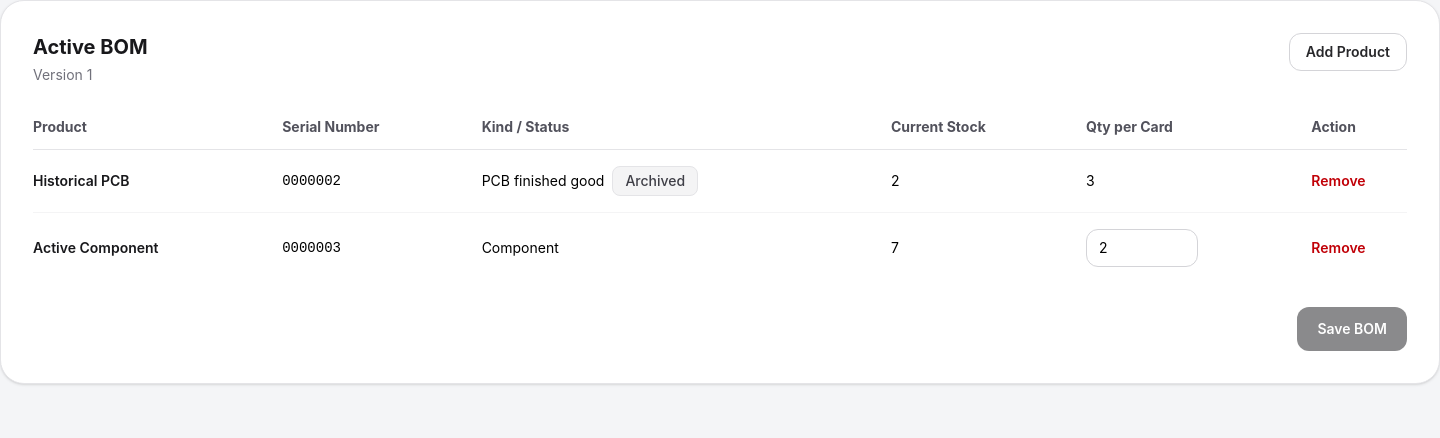
Test: PCB BOM editor › saves an unrelated quantity change with archived input unchanged
The width and height of the screenshot is (1440, 438).
Replace the text in the field named "Qty per Card for Active Component" with "4" at (1142, 248), box [1086,229,1198,267]
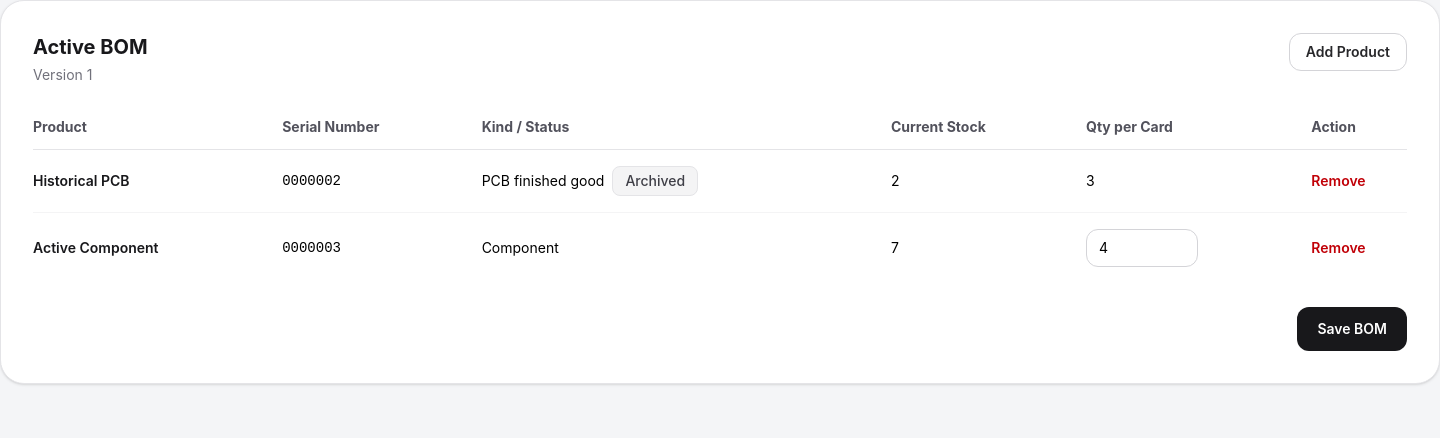
Click the button "Save BOM" at (1352, 329), box [1297,307,1407,351]
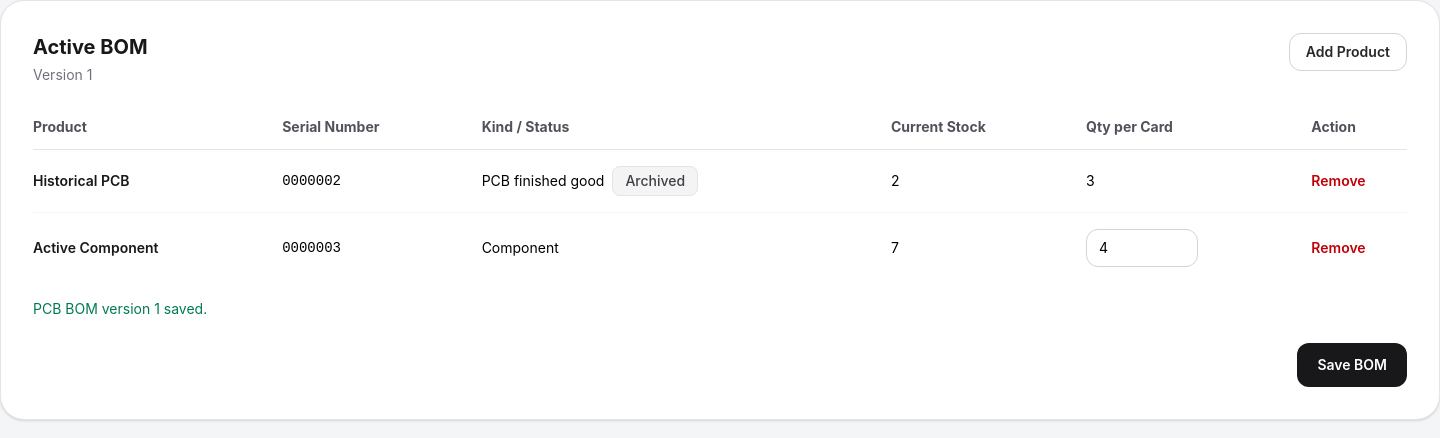
expect the message shows "version 1 saved": met, box [33,300,207,317]
